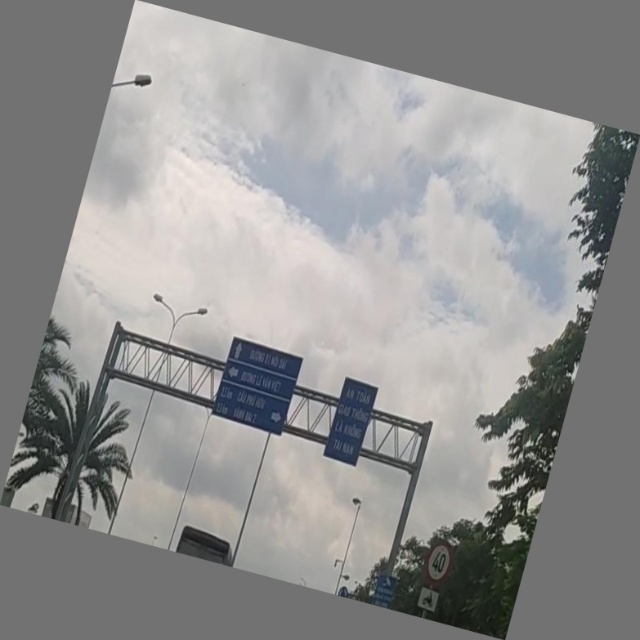P.127*40: (419, 534, 459, 589)
S.505a*Xe may: (414, 582, 442, 613)
